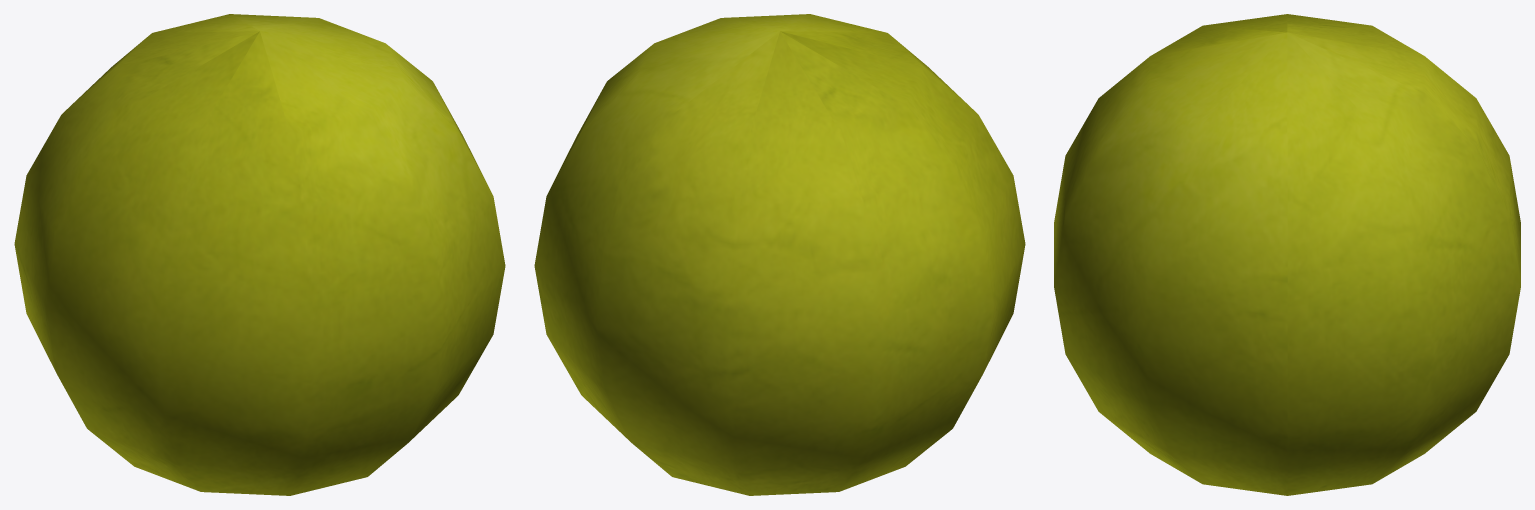
File: Sun.fbx
3 views of the same model, side by side, from view 1: azimuth 30°, elevation 25°; view 2: azimuth 150°, elevation 25°; view 3: azimuth 270°, elevation 25° (orthographic).
Visible parts, largest first — view 1: sphere; view 2: sphere; view 3: sphere.
Part boxes in pixels (x1,y1,x2,y2): sphere: (14, 14, 505, 495); sphere: (534, 14, 1025, 495); sphere: (1054, 14, 1520, 495).
Size of the model in its own units: 6.89 by 6.89 by 6.55.
1 material, 1 textured.
